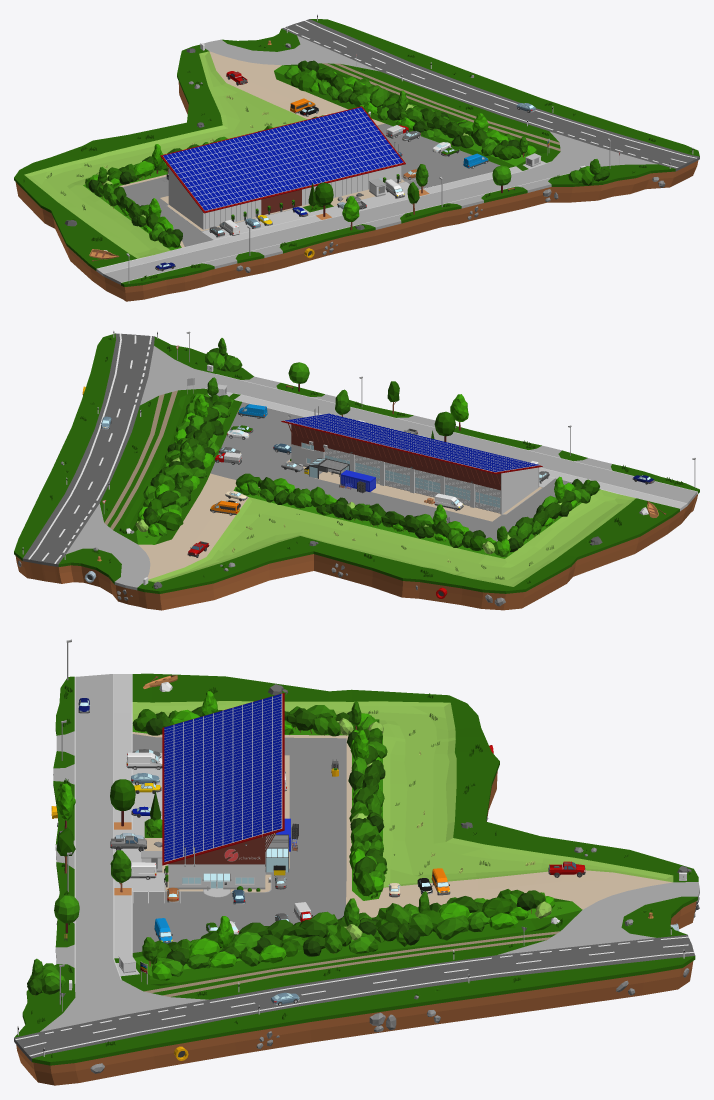
File: Schambeck_Holding_Overworld_Unity_Hackathon_final.fbx
3 views of the same model, one above another, from view 1: azimuth 30°, elevation 25°; view 2: azimuth 150°, elevation 25°; view 3: azimuth 270°, elevation 25° (orthographic). The views are drawn at different scales.
Visible parts, largest first — view 1: Insel; view 2: Insel; view 3: Insel.
Boxes of the visible parts, <box> form: Insel: <box>14,14,699,301</box>; Insel: <box>14,330,699,610</box>; Insel: <box>14,639,699,1085</box>.
Bounding box in the file's own units: 35.46 × 26.48 × 3.79.
